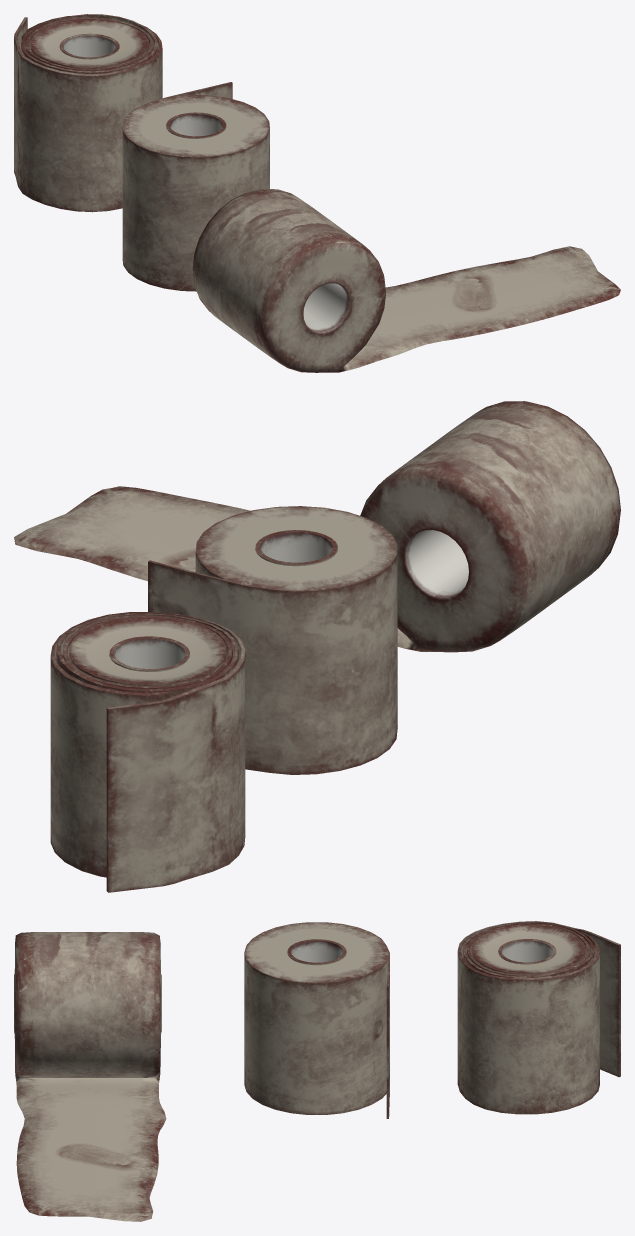
3 renders of one model, top to bottom at view 1: azimuth 30°, elevation 25°; view 2: azimuth 150°, elevation 25°; view 3: azimuth 270°, elevation 25°, orthographic. The views are drawn at different scales.
Visible parts, largest first — view 1: SM_bandages.002_4, SM_bandages.001_3, SM_bandages_2; view 2: SM_bandages.002_4, SM_bandages.001_3, SM_bandages_2; view 3: SM_bandages.002_4, SM_bandages.001_3, SM_bandages_2.
Boxes of the visible parts, <box> form: SM_bandages.002_4: <box>192,189,620,372</box>; SM_bandages.001_3: <box>14,14,162,212</box>; SM_bandages_2: <box>122,82,269,291</box>; SM_bandages.002_4: <box>14,401,620,652</box>; SM_bandages.001_3: <box>50,612,245,892</box>; SM_bandages_2: <box>148,506,397,774</box>; SM_bandages.002_4: <box>14,932,166,1221</box>; SM_bandages.001_3: <box>457,921,620,1114</box>; SM_bandages_2: <box>244,922,389,1118</box>.
Size of the model in its own units: 0.3565 by 0.1249 by 0.4975.
Materials: 1 (1 with a texture image).
